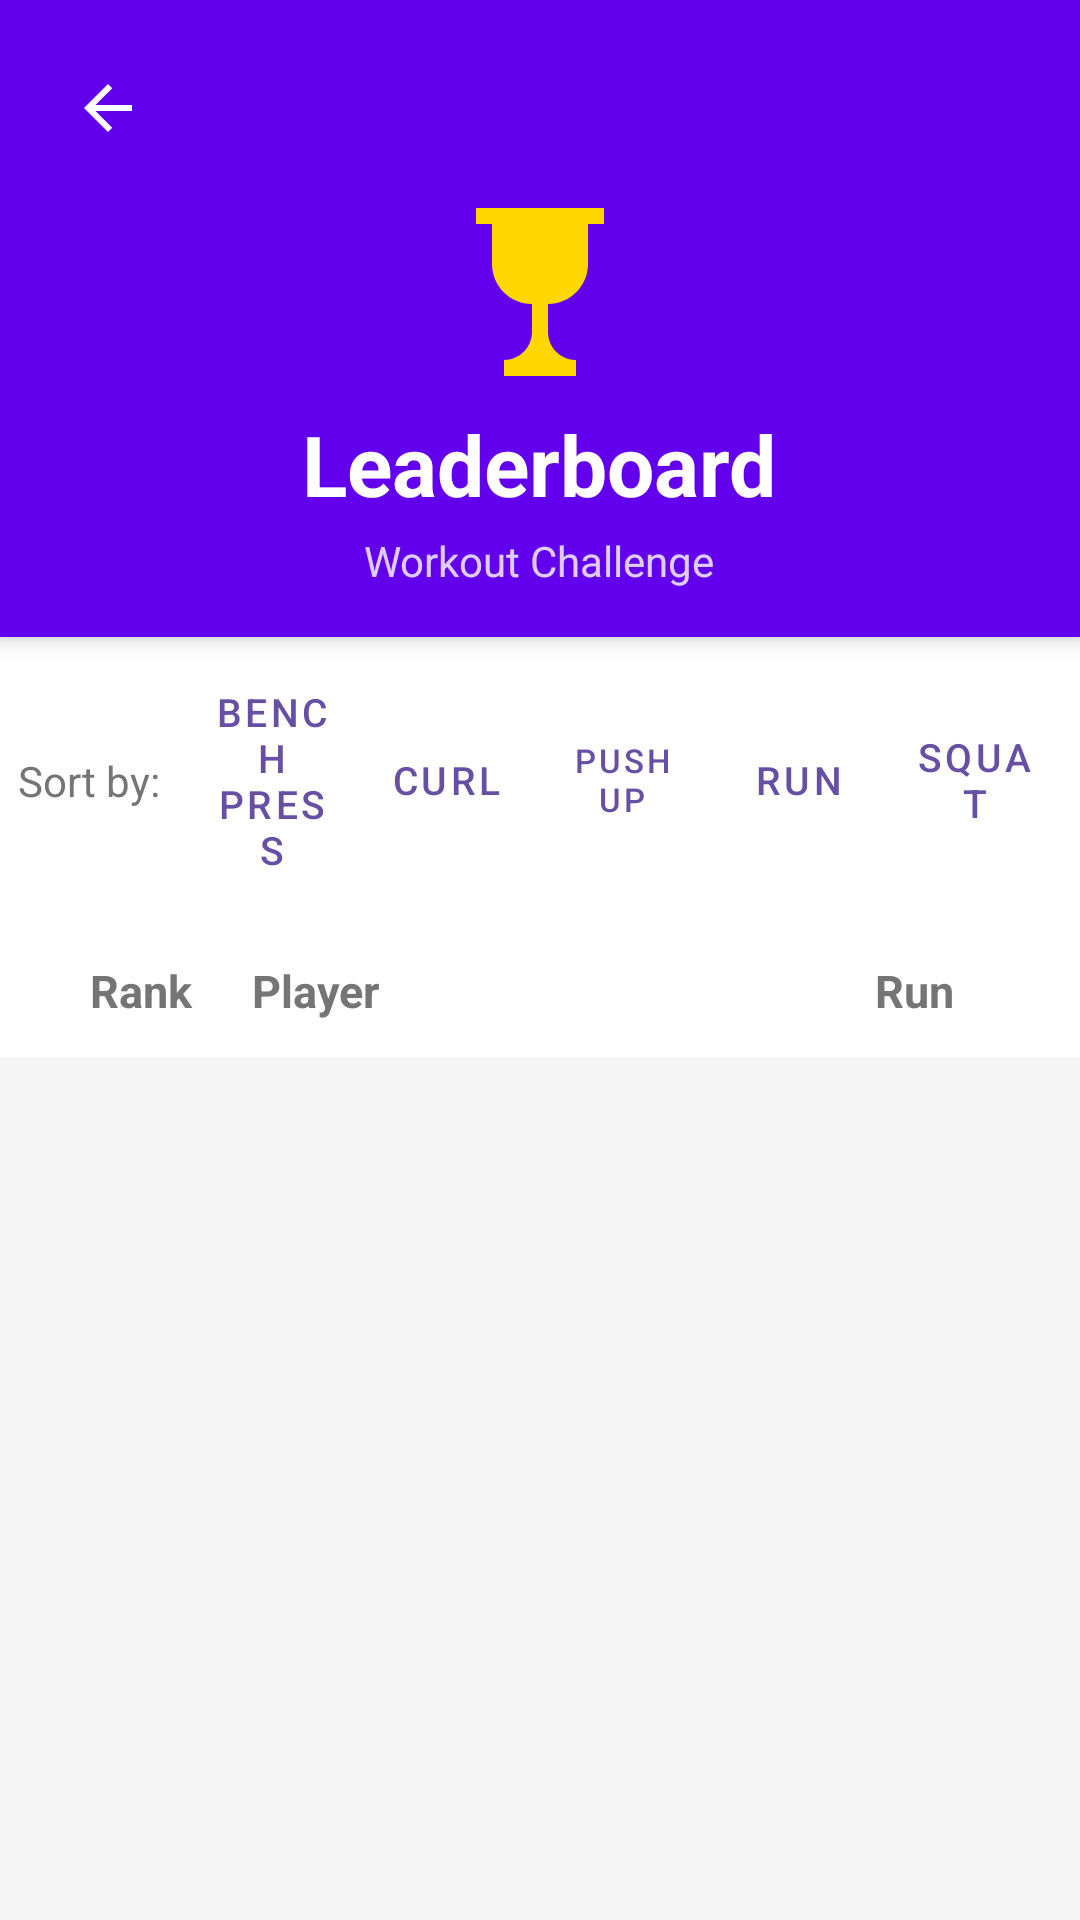

Icons on this 1080px×1920px Android screen, each with its box as (x1, y1, x2, y2):
Back: (84, 84, 132, 132)
Trophy: (476, 208, 604, 376)
